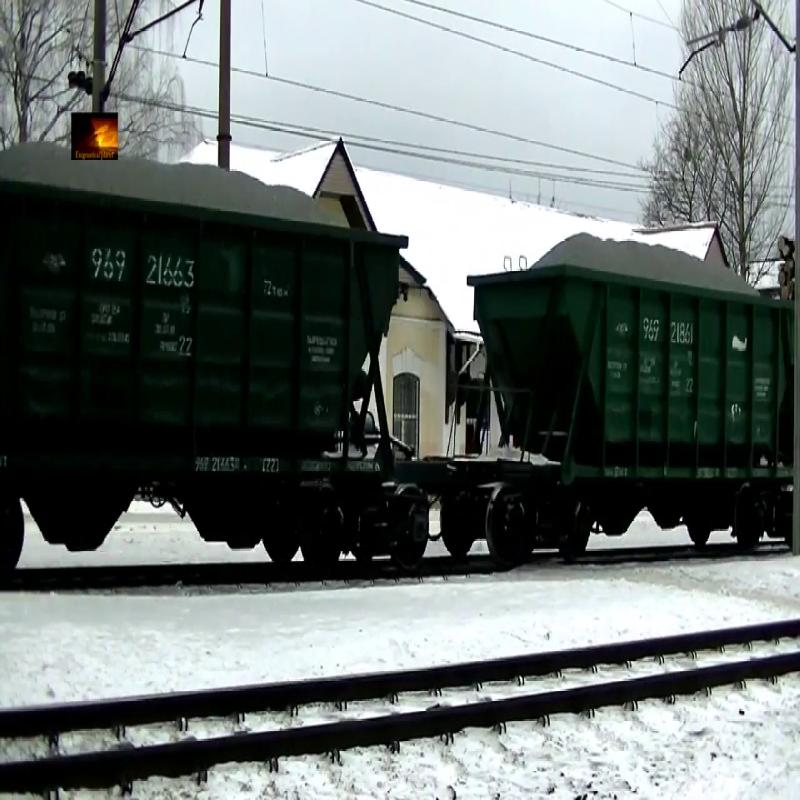train: (1, 158, 409, 570), (467, 242, 797, 564)
